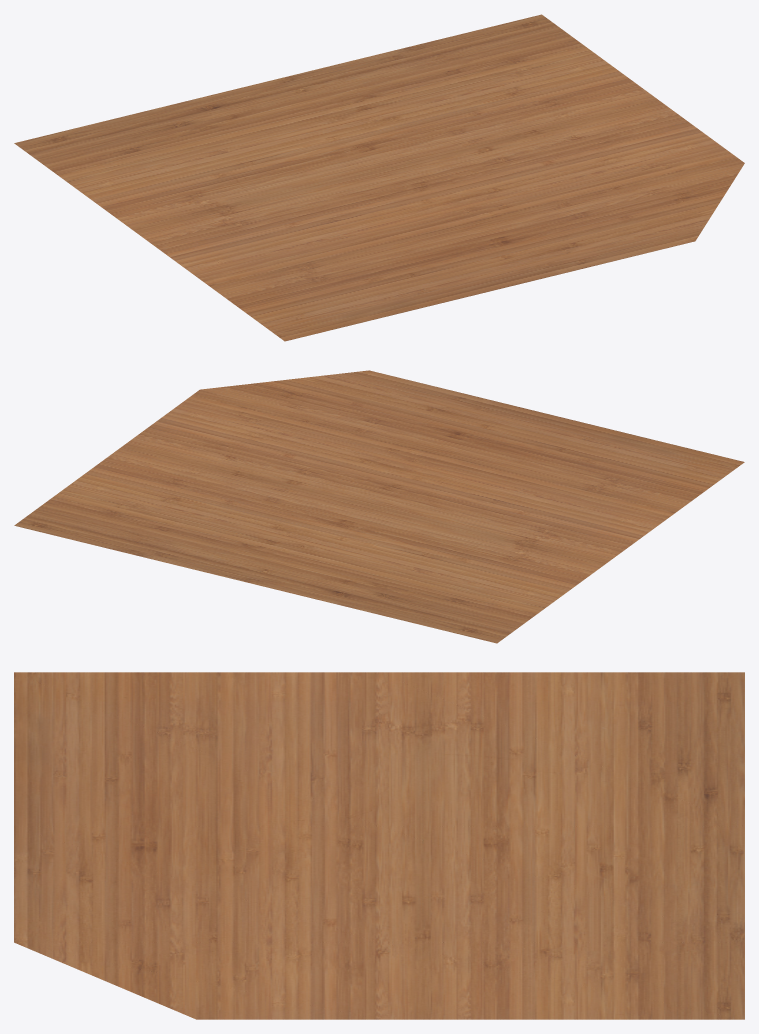
The model's file is GYM_Floor_Wood_6.fbx.
The picture shows the model from 3 angles, top to bottom: view 1: azimuth 30°, elevation 25°; view 2: azimuth 150°, elevation 25°; view 3: azimuth 270°, elevation 25°; orthographic projection. The views are drawn at different scales.
Parts seen in each view (by area): view 1: GYM_Wood_Floor_2; view 2: GYM_Wood_Floor_2; view 3: GYM_Wood_Floor_2.
Part boxes in pixels (left/top/right/bottom): GYM_Wood_Floor_2: left=14, top=14, right=744, bottom=341; GYM_Wood_Floor_2: left=14, top=370, right=744, bottom=643; GYM_Wood_Floor_2: left=14, top=672, right=744, bottom=1019.
Size of the model in its own units: 4.5 by 8.88e-16 by 4.
1 material, 1 textured.
